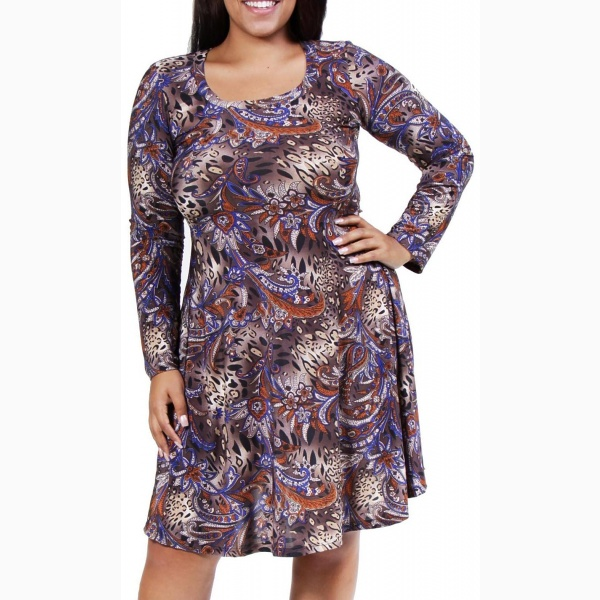C_dress: (99, 37, 472, 572)
C_skirt: (137, 260, 427, 565)
